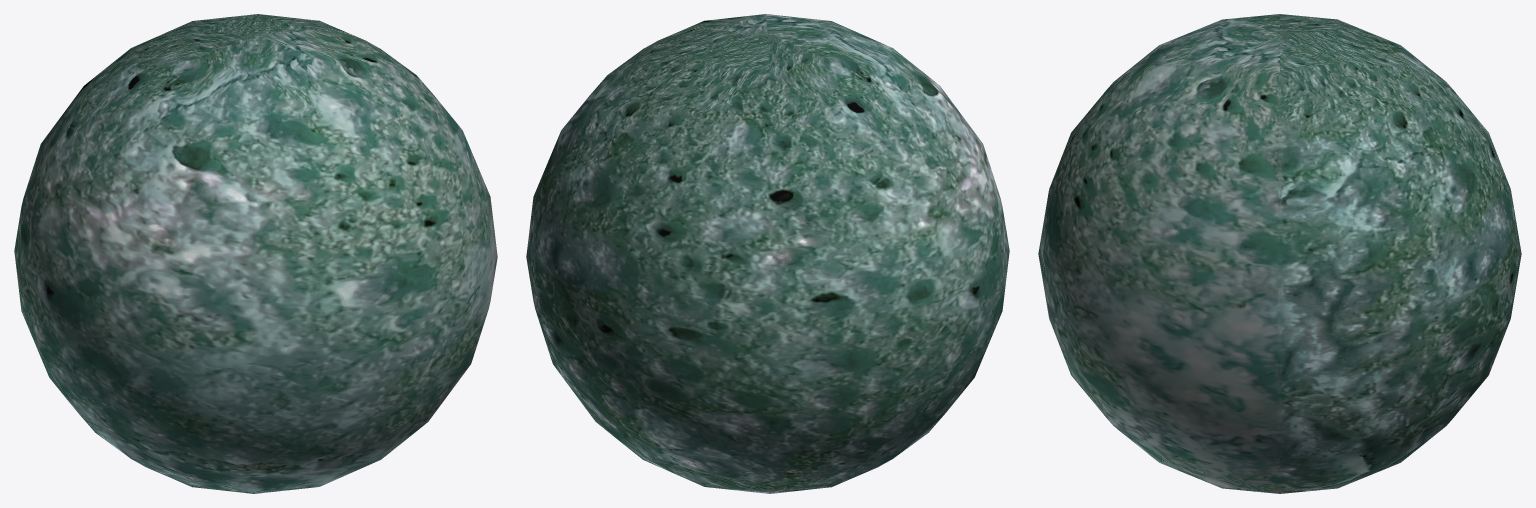
The model's file is moon_d_g.fbx.
3 views of the same model, side by side, from view 1: azimuth 30°, elevation 25°; view 2: azimuth 150°, elevation 25°; view 3: azimuth 270°, elevation 25° (orthographic).
Parts seen in each view (by area): view 1: moon_d_g; view 2: moon_d_g; view 3: moon_d_g.
Boxes of the visible parts, <box> form: moon_d_g: <box>14,14,497,493</box>; moon_d_g: <box>526,14,1009,493</box>; moon_d_g: <box>1038,14,1521,493</box>.
Size of the model in its own units: 120 by 120 by 120.
1 material, 1 textured.
